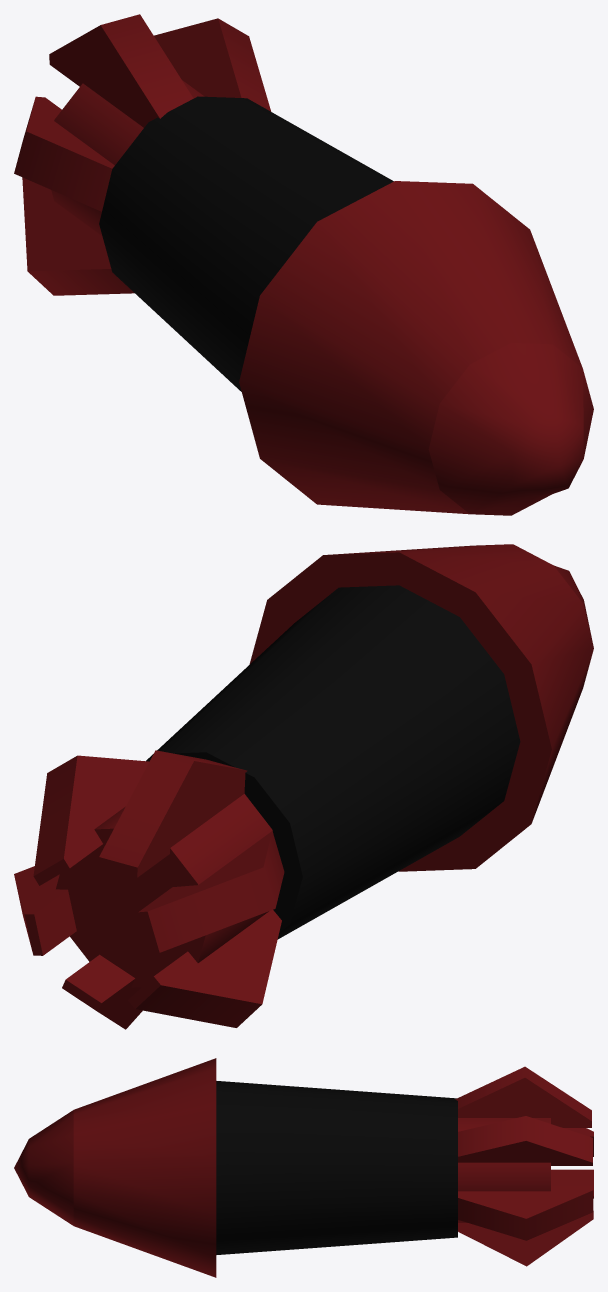
Rendered from ROCKET_GUN_BULLET_II_00I.fbx.
3 renders of one model, top to bottom at view 1: azimuth 30°, elevation 25°; view 2: azimuth 150°, elevation 25°; view 3: azimuth 270°, elevation 25°, orthographic. The views are drawn at different scales.
Parts seen in each view (by area): view 1: ROCKET_GUN_BULLET_II_00I; view 2: ROCKET_GUN_BULLET_II_00I; view 3: ROCKET_GUN_BULLET_II_00I.
Boxes of the visible parts, left/top/right/bottom form: ROCKET_GUN_BULLET_II_00I: left=14, top=14, right=593, bottom=515; ROCKET_GUN_BULLET_II_00I: left=14, top=544, right=593, bottom=1029; ROCKET_GUN_BULLET_II_00I: left=14, top=1058, right=593, bottom=1277.
Bounding box in the file's own units: 0.099 × 0.099 × 0.2602.
